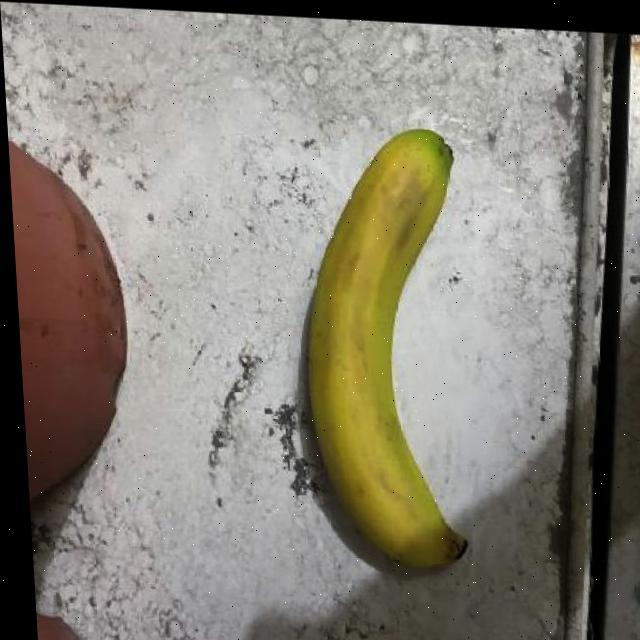banana: (283, 114, 483, 576)
